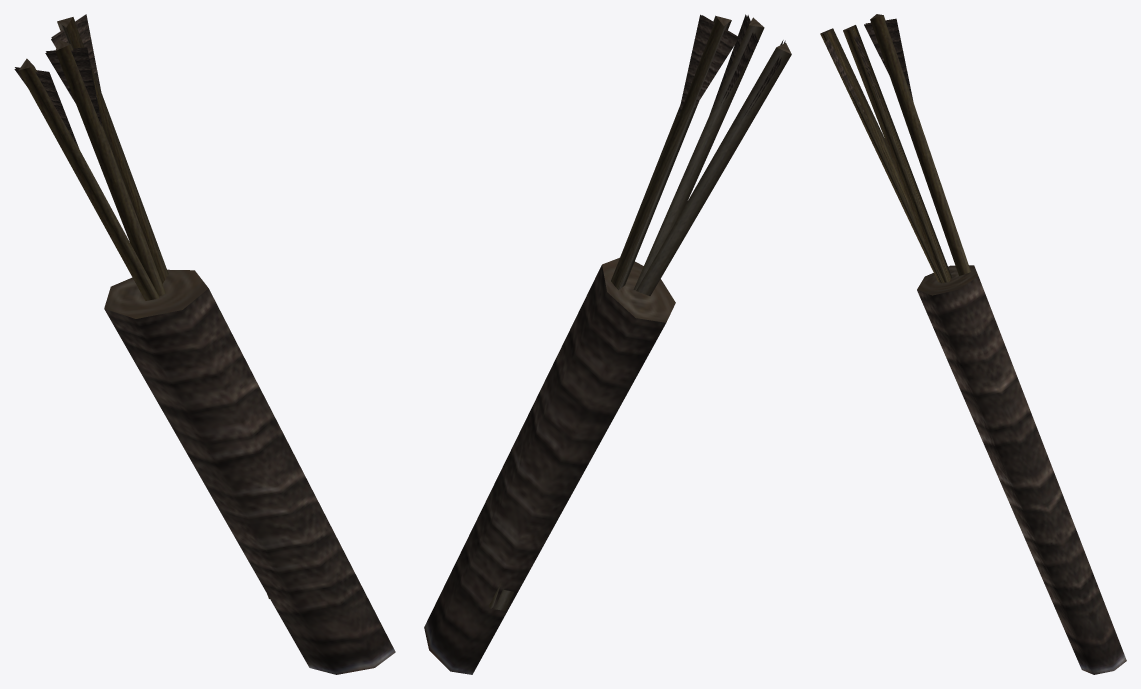
File: quiver.FBX
The picture shows the model from 3 angles, left to right: view 1: azimuth 30°, elevation 25°; view 2: azimuth 150°, elevation 25°; view 3: azimuth 330°, elevation 25°; orthographic projection. The views are drawn at different scales.
Visible parts, largest first — view 1: elf_quiver; view 2: elf_quiver; view 3: elf_quiver.
Part boxes in pixels (x1=…): elf_quiver: x1=14, y1=14, x2=395, y2=674; elf_quiver: x1=424, y1=14, x2=791, y2=674; elf_quiver: x1=820, y1=14, x2=1126, y2=674.
Bounding box in the file's own units: 36.97 × 68.8 × 8.16.
